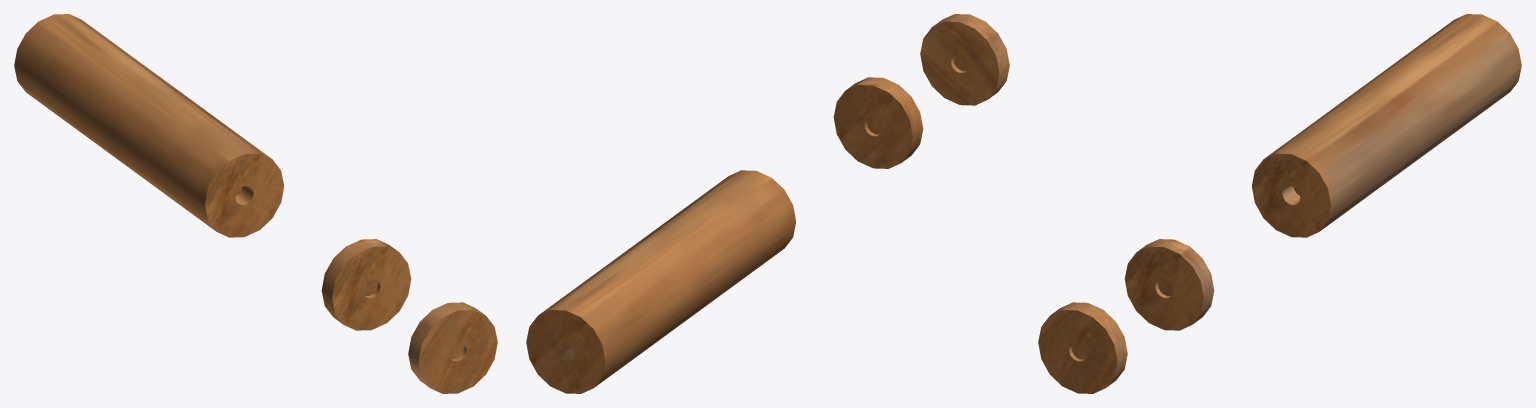
Rendered from mugun01.fbx.
3 views of the same model, side by side, from view 1: azimuth 30°, elevation 25°; view 2: azimuth 150°, elevation 25°; view 3: azimuth 330°, elevation 25° (orthographic).
Parts seen in each view (by area): view 1: mugun01; view 2: mugun01; view 3: mugun01.
Part boxes in pixels (box(x1,y1,x2,y2)): mugun01: box(14, 14, 497, 393); mugun01: box(526, 14, 1009, 393); mugun01: box(1038, 14, 1521, 393).
Bounding box in the file's own units: 24.1 × 24.1 × 213.
